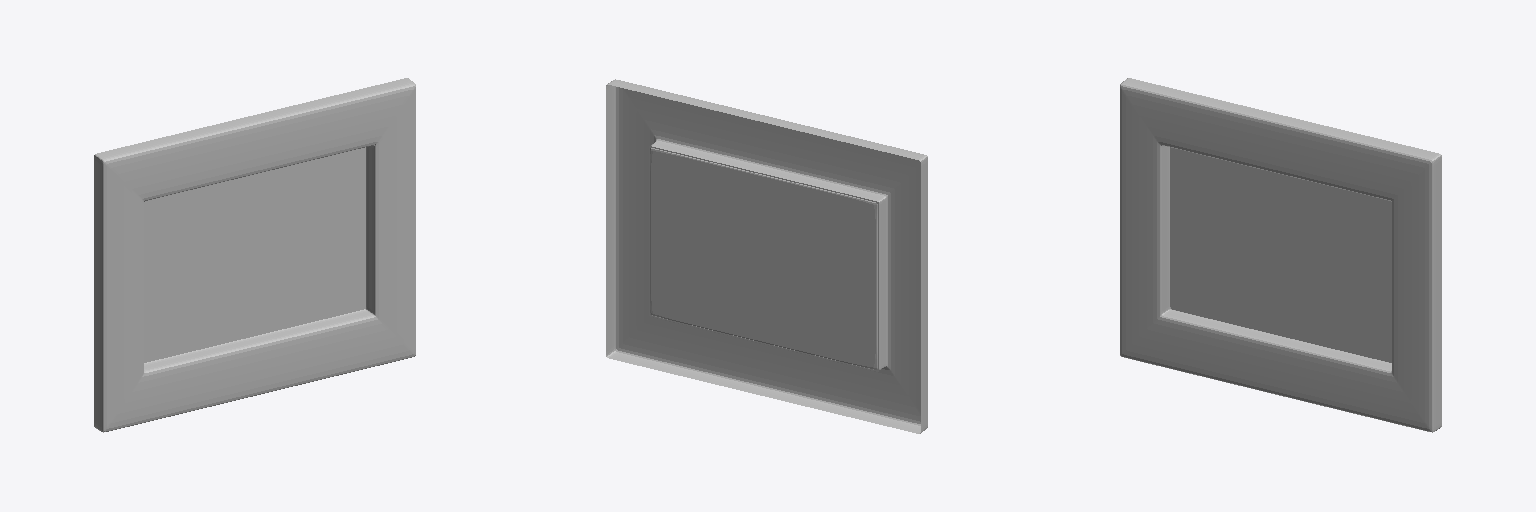
The model's file is picture frame.obj.
3 renders of one model, left to right at view 1: azimuth 30°, elevation 25°; view 2: azimuth 150°, elevation 25°; view 3: azimuth 330°, elevation 25°, orthographic.
Visible parts, largest first — view 1: Object.1; view 2: Object.1; view 3: Object.1.
Boxes of the visible parts, <box> form: Object.1: <box>94,78,415,432</box>; Object.1: <box>606,79,927,433</box>; Object.1: <box>1120,78,1441,432</box>.
Bounding box in the file's own units: 105 × 86.93 × 5.26.